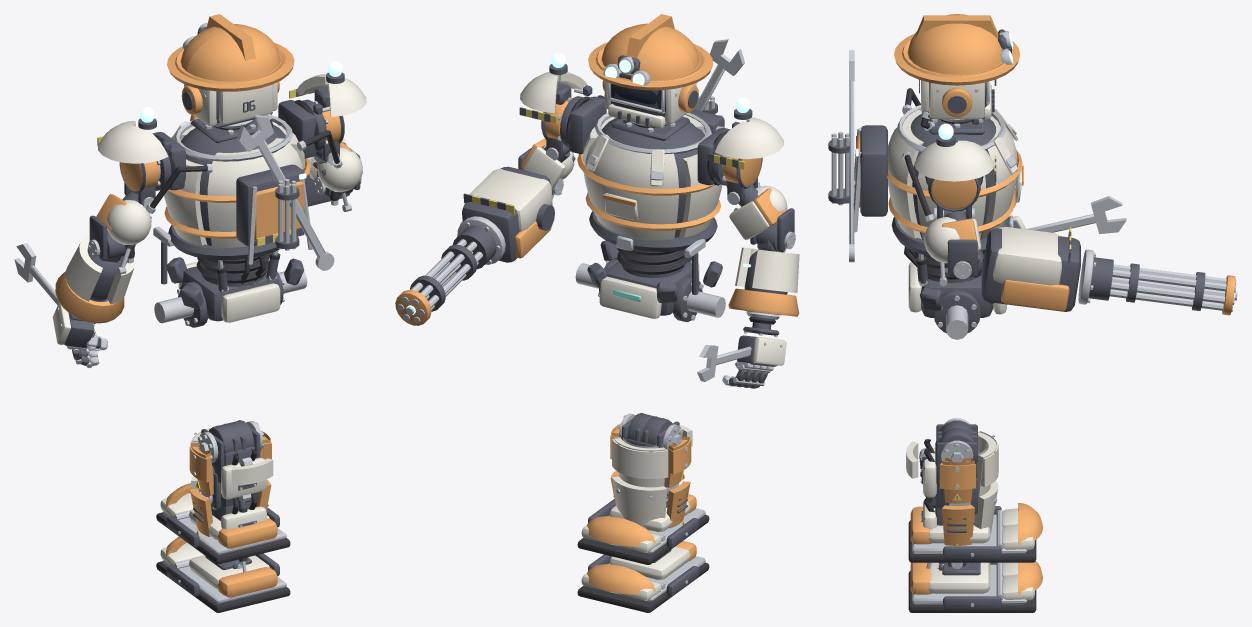
Rendered from rosca13.glb.
3 renders of one model, left to right at view 1: azimuth 30°, elevation 25°; view 2: azimuth 150°, elevation 25°; view 3: azimuth 270°, elevation 25°, orthographic. The views are drawn at different scales.
Parts seen in each view (by area): view 1: rosca13_torso__dark, rosca13_torso__shell, rosca13_head__trim, rosca13_shoulders__shell, rosca13_shoulders__dark, rosca13_torso__metal, rosca13_leg_l__shell, rosca13_leg_l__trim, rosca13_torso__trim, rosca13_arm__shell, rosca13_torso__rubber, rosca13_head__shell (+16 smaller); view 2: rosca13_torso__shell, rosca13_torso__dark, rosca13_head__trim, rosca13_shoulders__shell, rosca13_arm__shell, rosca13_shoulders__dark, rosca13_leg_l__shell, rosca13_arm__dark, rosca13_torso__metal, rosca13_leg_l__trim, rosca13_arm__metal, rosca13_torso__trim (+20 smaller); view 3: rosca13_torso__dark, rosca13_head__trim, rosca13_torso__shell, rosca13_leg_l__shell, rosca13_shoulders__shell, rosca13_torso__metal, rosca13_arm__shell, rosca13_gun__metal, rosca13_arm__dark, rosca13_leg_l__shell_shin, rosca13_arm__metal, rosca13_leg_r__trim (+20 smaller).
Part boxes in pixels (x1,y1,x2,y2): rosca13_torso__dark: (161, 112, 305, 327); rosca13_torso__shell: (164, 121, 304, 322); rosca13_head__trim: (167, 14, 294, 114); rosca13_shoulders__shell: (97, 74, 366, 244); rosca13_shoulders__dark: (89, 72, 360, 260); rosca13_torso__metal: (146, 113, 342, 325); rosca13_leg_l__shell: (160, 430, 273, 588); rosca13_leg_l__trim: (165, 446, 277, 597); rosca13_torso__trim: (164, 158, 310, 241); rosca13_arm__shell: (52, 139, 348, 344); rosca13_torso__rubber: (150, 119, 339, 283); rosca13_head__shell: (184, 82, 277, 125); rosca13_torso__shell: (583, 115, 722, 318); rosca13_torso__dark: (587, 101, 724, 321); rosca13_head__trim: (588, 14, 713, 112); rosca13_shoulders__shell: (520, 72, 787, 239); rosca13_arm__shell: (469, 169, 799, 365); rosca13_shoulders__dark: (518, 64, 794, 251); rosca13_leg_l__shell: (581, 422, 692, 600); rosca13_arm__dark: (462, 166, 787, 388); rosca13_torso__metal: (575, 96, 760, 320); rosca13_leg_l__trim: (587, 439, 696, 594); rosca13_arm__metal: (457, 216, 782, 387); rosca13_torso__trim: (577, 154, 720, 230); rosca13_torso__dark: (828, 112, 1009, 333); rosca13_head__trim: (894, 14, 1020, 117); rosca13_torso__shell: (888, 109, 1021, 314); rosca13_leg_l__shell: (906, 432, 1034, 600); rosca13_shoulders__shell: (914, 140, 994, 263); rosca13_torso__metal: (831, 104, 1016, 339); rosca13_arm__shell: (993, 215, 1061, 285); rosca13_gun__metal: (1109, 264, 1237, 311); rosca13_arm__dark: (971, 221, 1080, 311); rosca13_leg_l__shell_shin: (923, 431, 1034, 550); rosca13_arm__metal: (1026, 196, 1126, 304); rosca13_leg_r__trim: (939, 462, 975, 545).
Bounding box in the file's own units: 1.29 × 2.3 × 1.48.
